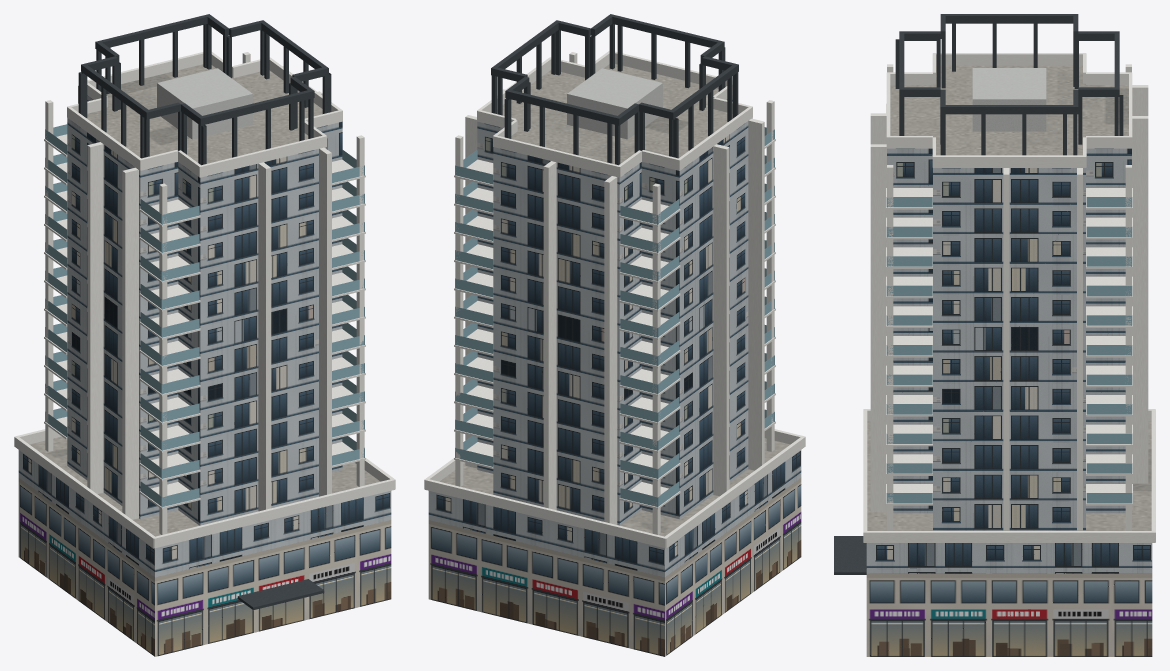
Rendered from OW_CaoOc_CH_GocLom_52.fbx.
The picture shows the model from 3 angles, left to right: view 1: azimuth 30°, elevation 25°; view 2: azimuth 150°, elevation 25°; view 3: azimuth 270°, elevation 25°; orthographic projection. The views are drawn at different scales.
Visible parts, largest first — view 1: OW_CaoOc_CH_GocLom_52_LOD0; view 2: OW_CaoOc_CH_GocLom_52_LOD0; view 3: OW_CaoOc_CH_GocLom_52_LOD0.
Boxes of the visible parts, <box> form: OW_CaoOc_CH_GocLom_52_LOD0: <box>14,14,395,656</box>; OW_CaoOc_CH_GocLom_52_LOD0: <box>424,14,805,656</box>; OW_CaoOc_CH_GocLom_52_LOD0: <box>834,14,1155,656</box>.
Size of what is drawn, in the model's own units: 28.7 by 58 by 31.55.
